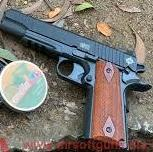gun: (1, 1, 153, 152)
